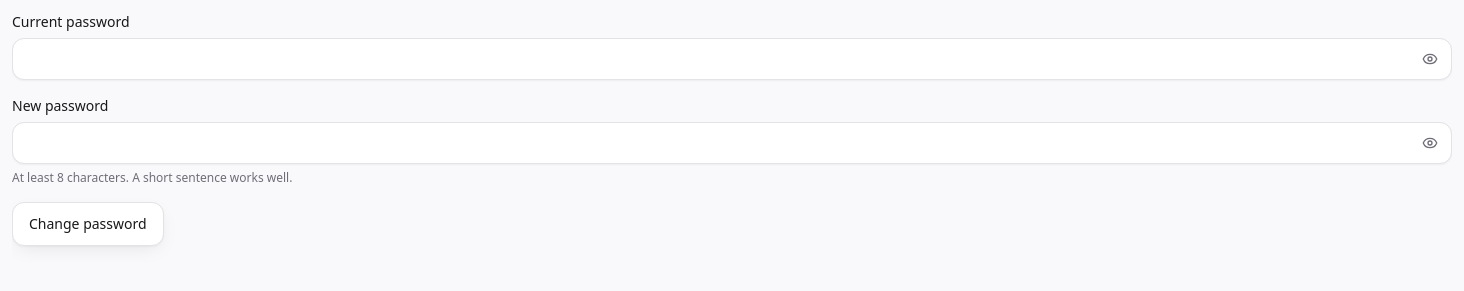
ChangePasswordForm › shows a wrong current password next to that field
Type "guess" into the password field labelled "Current password" at (732, 59), box [12,38,1452,80]
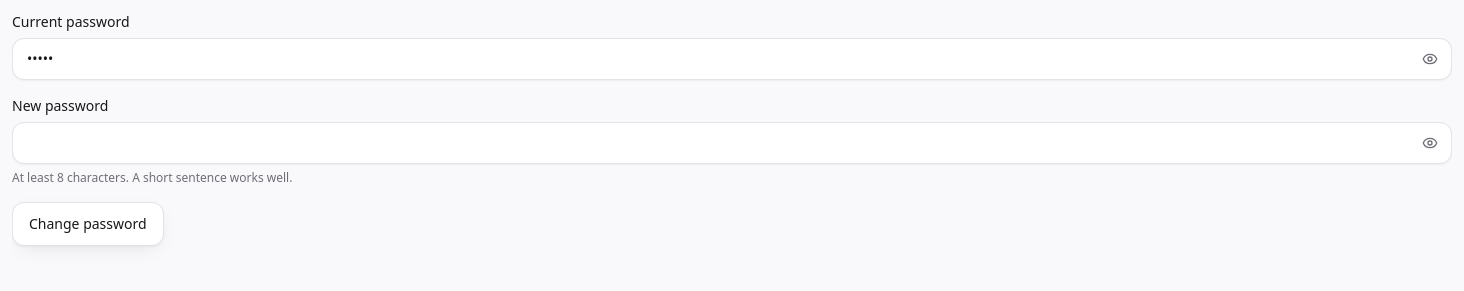
Type "new password here" into the password field labelled "New password" at (732, 143), box [12,122,1452,164]
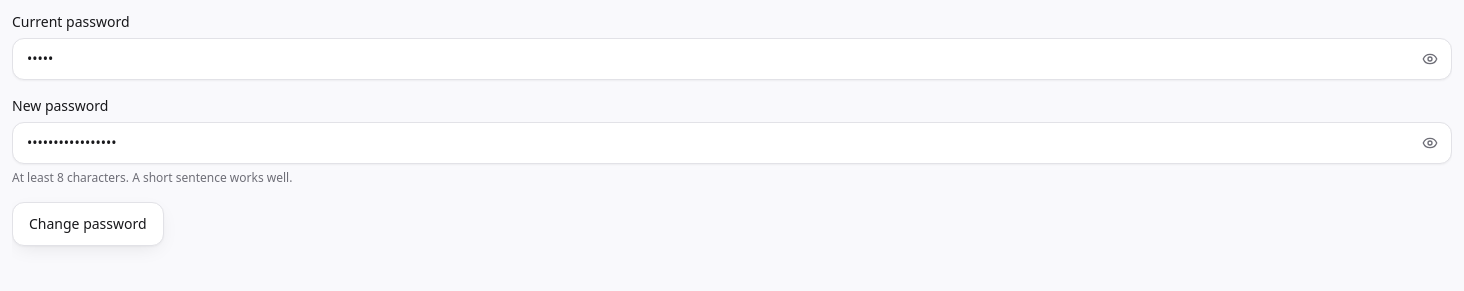
Submit the form
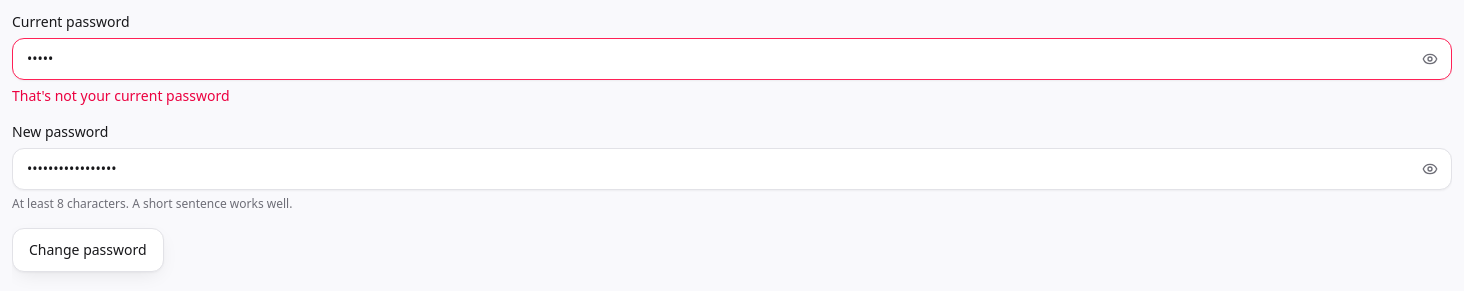
Expected: the form shows "That's not your current password", [12,86,230,105]
